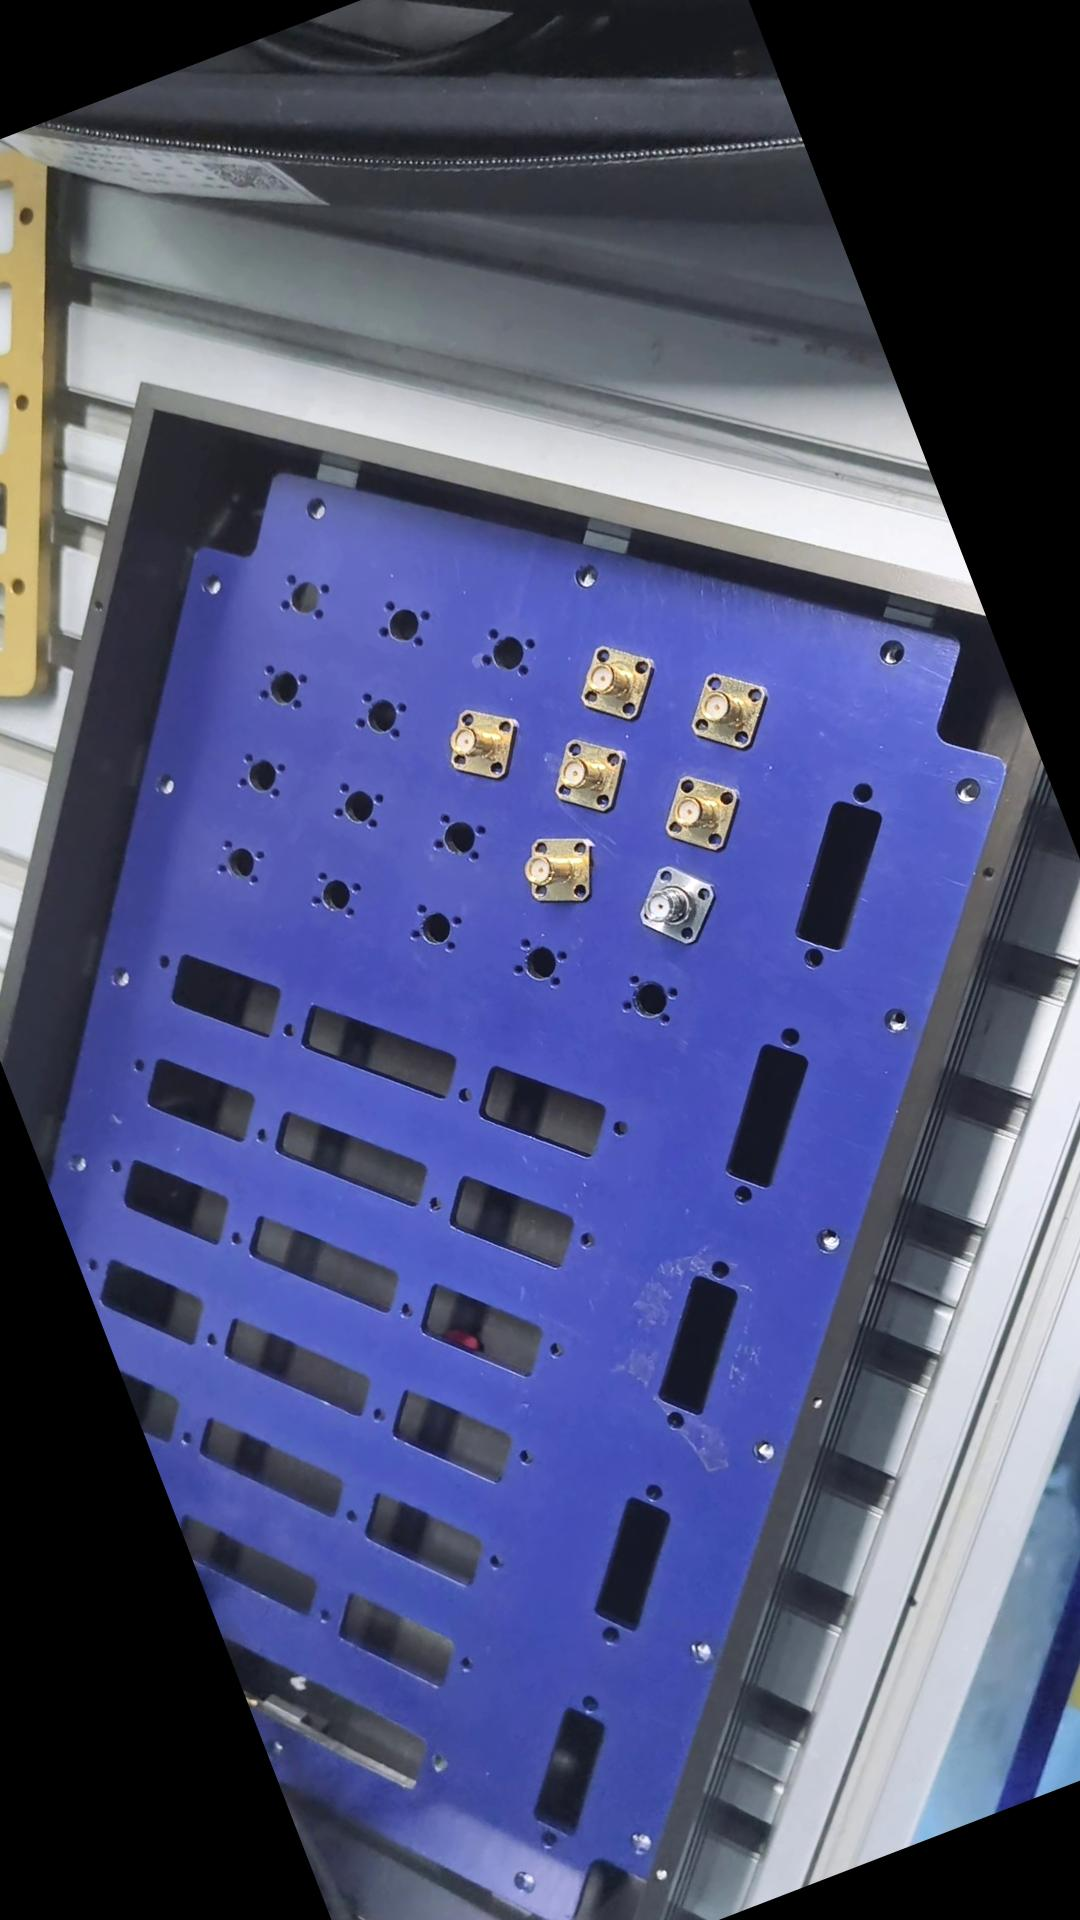SMA: (670, 651, 785, 766), (644, 754, 757, 862), (616, 848, 725, 957), (425, 692, 530, 799), (560, 630, 667, 735), (535, 721, 637, 825), (509, 823, 605, 920)
